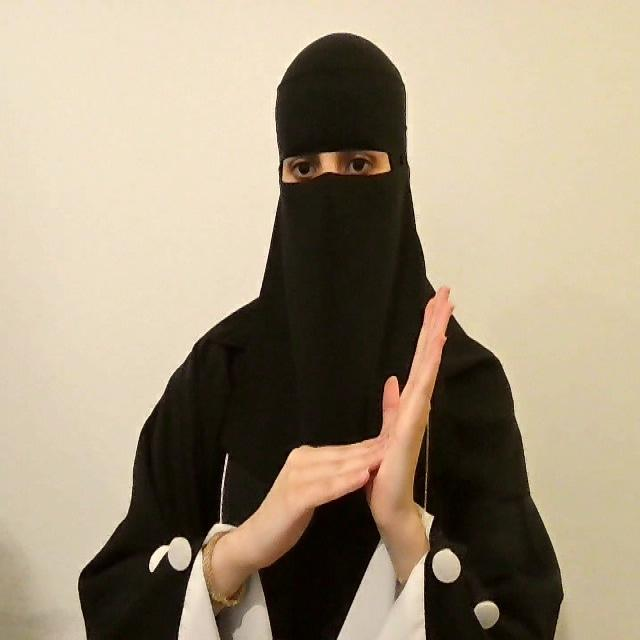complaint: (229, 282, 460, 598)
